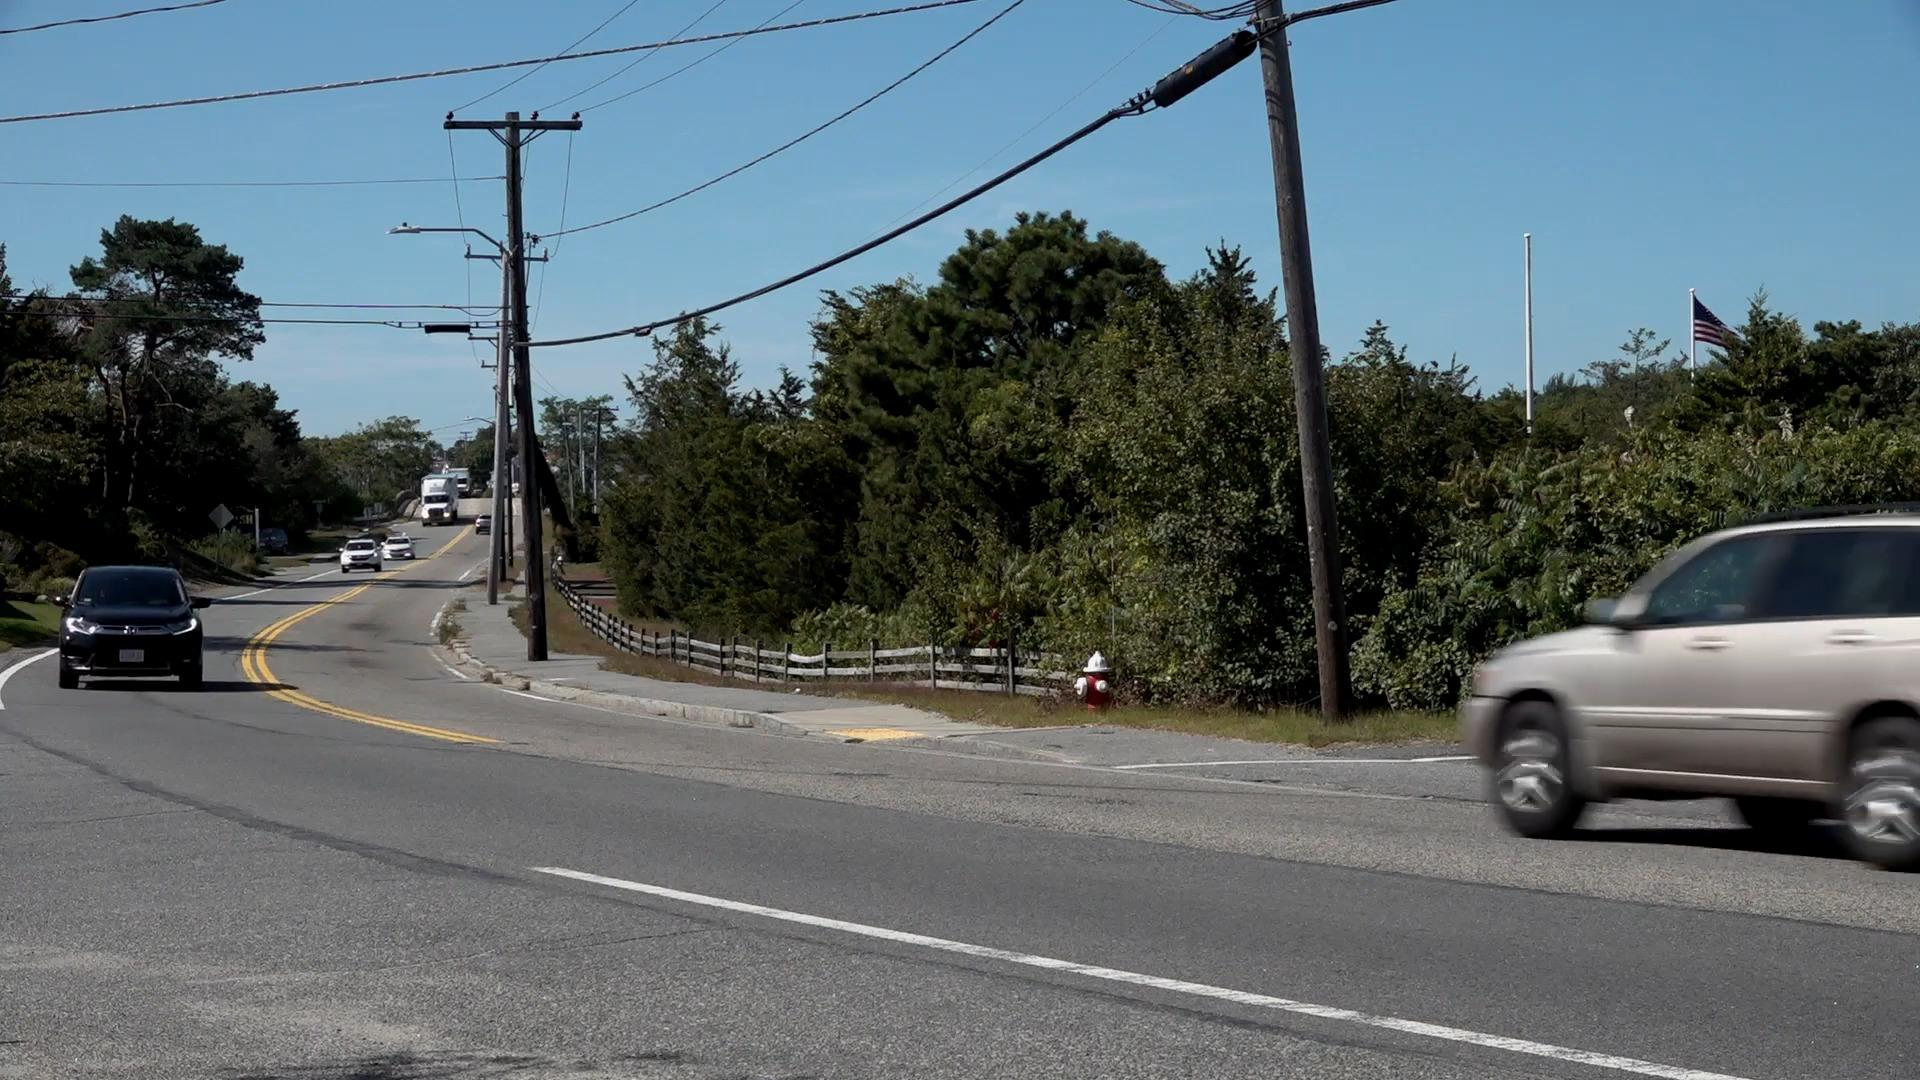suv: (1466, 510, 1920, 870), (63, 567, 202, 684)
